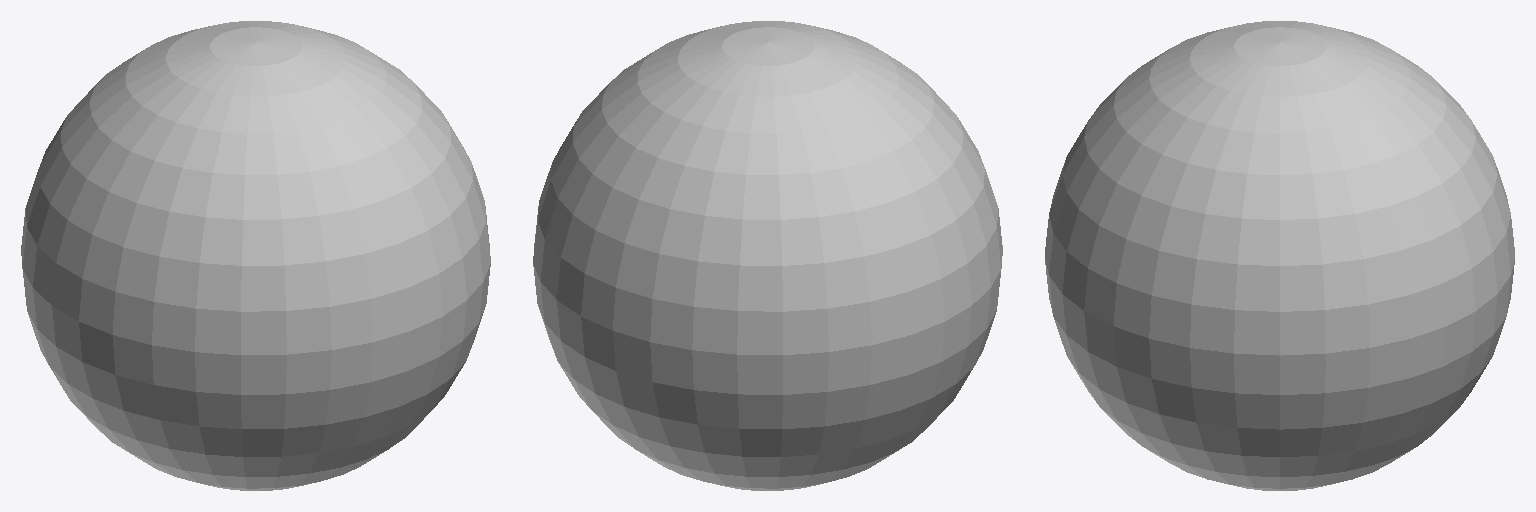
File: sphere_template.obj
3 views of the same model, side by side, from view 1: azimuth 30°, elevation 25°; view 2: azimuth 150°, elevation 25°; view 3: azimuth 270°, elevation 25° (orthographic).
Parts seen in each view (by area): view 1: Sphere; view 2: Sphere; view 3: Sphere.
Part boxes in pixels (x1,y1,x2,y2): Sphere: (21, 21, 490, 490); Sphere: (533, 21, 1002, 490); Sphere: (1045, 21, 1514, 490).
Bounding box in the file's own units: 0.2364 × 0.2364 × 0.2364.